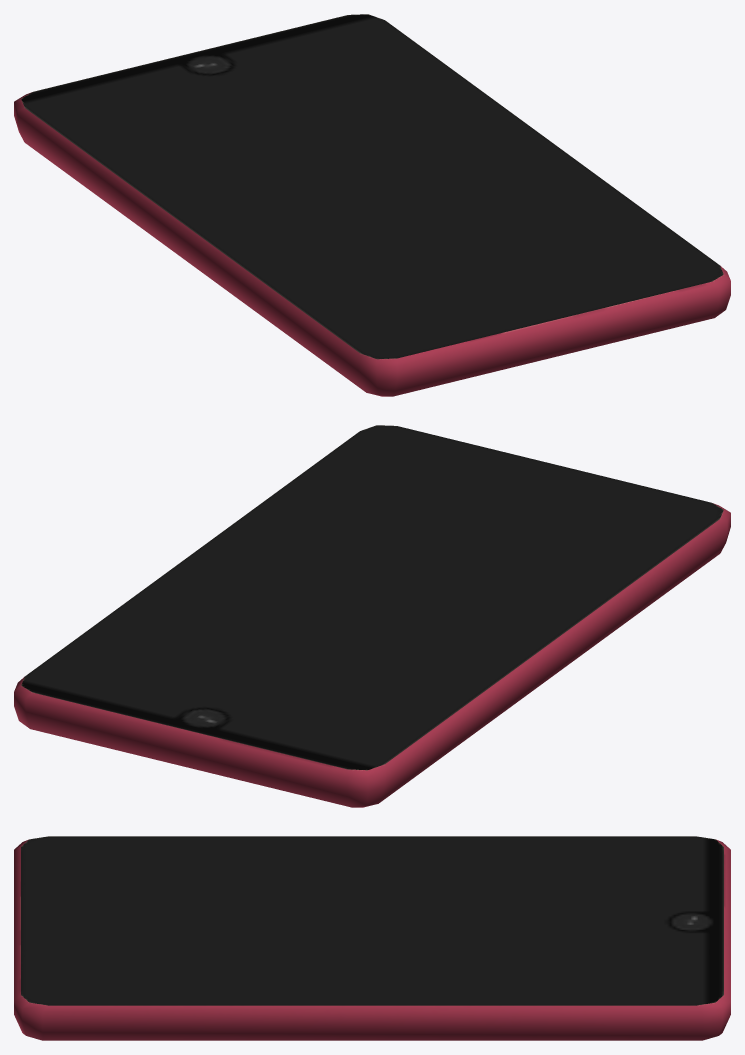
The model's file is phone_02.fbx.
The picture shows the model from 3 angles, top to bottom: view 1: azimuth 30°, elevation 25°; view 2: azimuth 150°, elevation 25°; view 3: azimuth 270°, elevation 25°; orthographic projection. The views are drawn at different scales.
Visible parts, largest first — view 1: phone_02; view 2: phone_02; view 3: phone_02.
Boxes of the visible parts, x1,y1,x2,y2 form: phone_02: (14, 14, 730, 396); phone_02: (14, 425, 730, 807); phone_02: (14, 836, 730, 1040).
Bounding box in the file's own units: 27.3 × 3.24 × 47.83.
